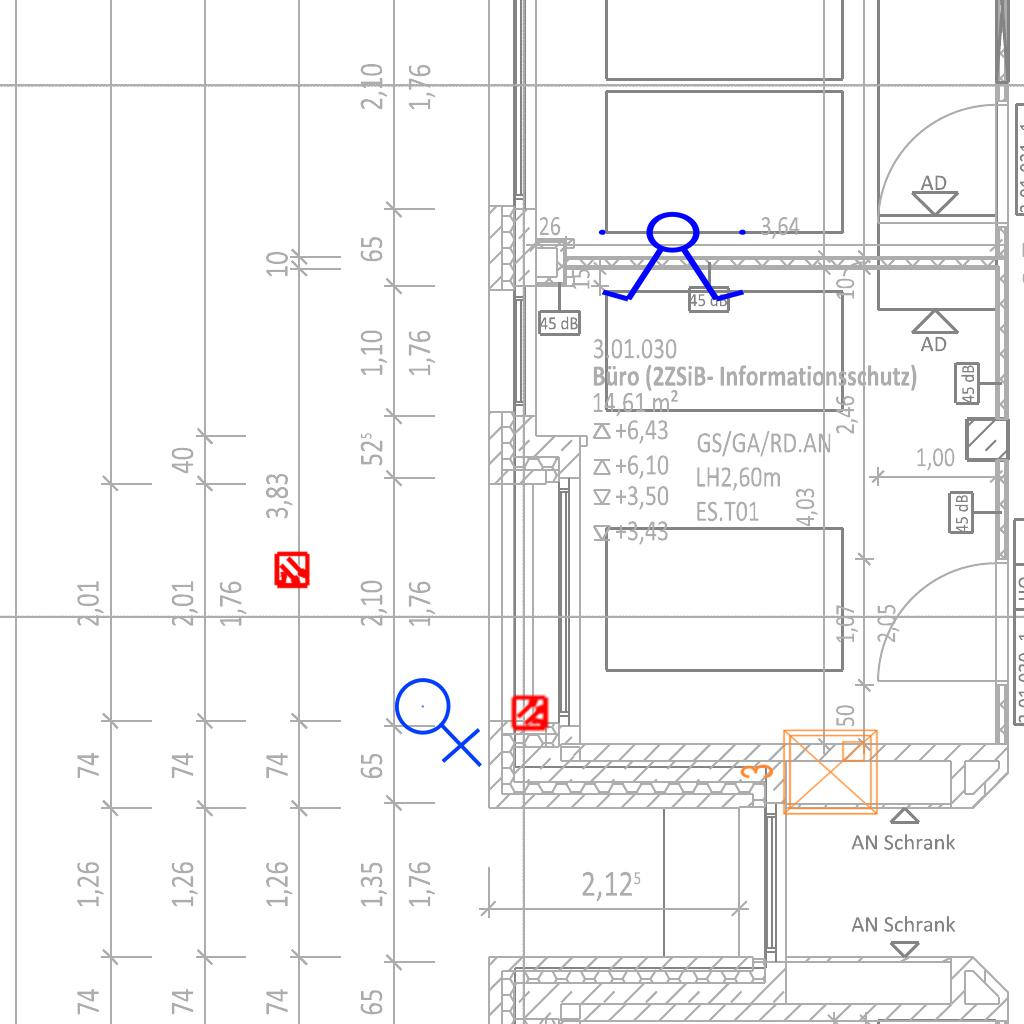Einbaudownlights_LED_Konferenzraeume: (735, 722, 885, 826)
Elektroanschluss_allgemein_230V_Geraeteanschlussdose_230V: (393, 669, 487, 768)
OT_Multisensormelder_(Kombination_RMO_WMD): (503, 685, 559, 741), (264, 543, 320, 599)
Serienschalter: (590, 210, 758, 306)
